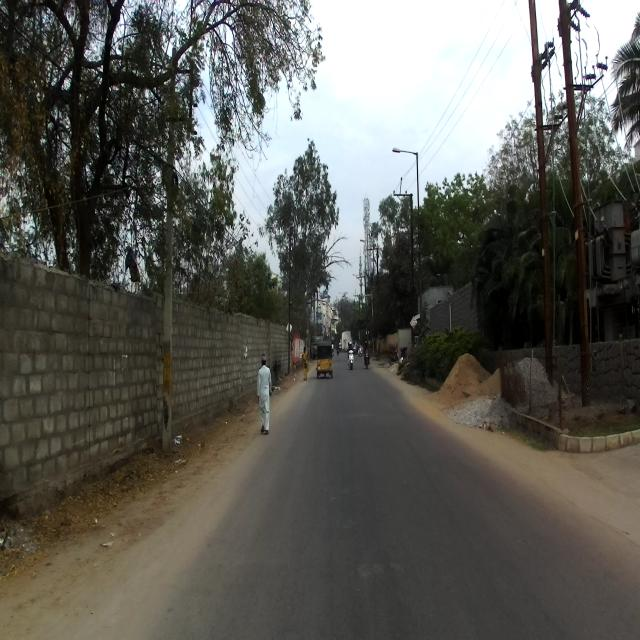electric pole ahead at: (153, 82, 184, 452)
person ahead at: (255, 356, 272, 438)
